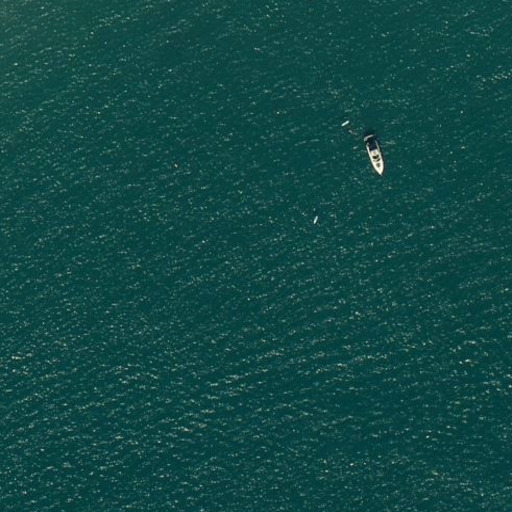ship: (363, 134, 387, 179)
